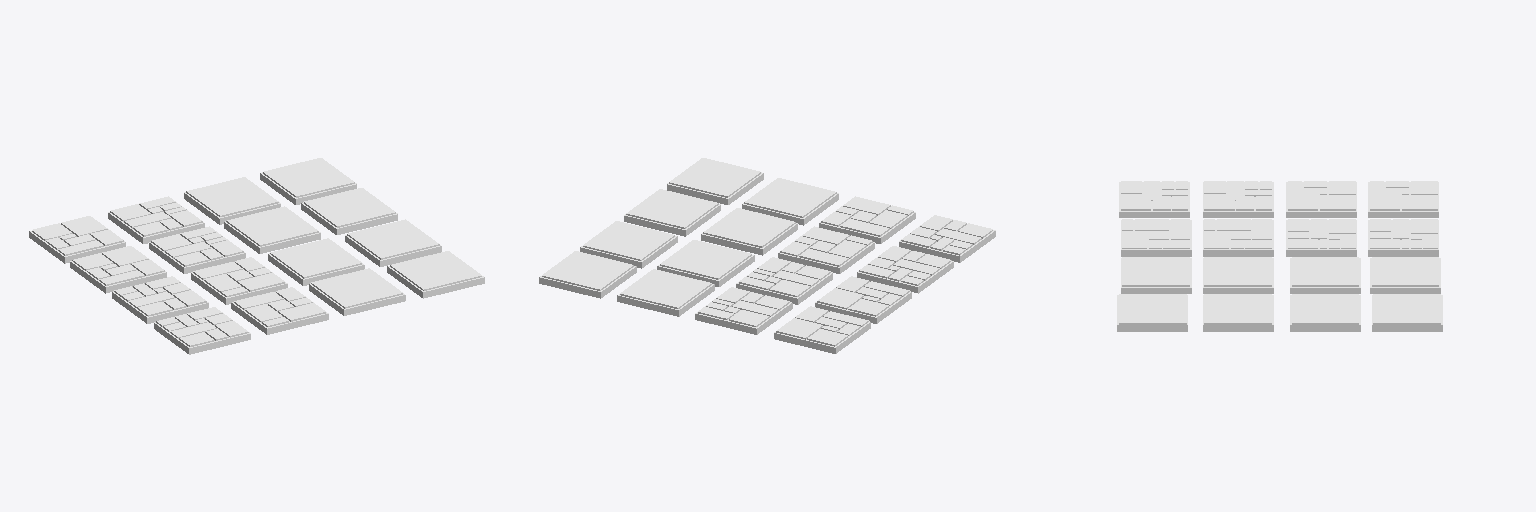
The model's file is Tiles.obj.
3 views of the same model, side by side, from view 1: azimuth 30°, elevation 25°; view 2: azimuth 150°, elevation 25°; view 3: azimuth 270°, elevation 25° (orthographic).
Visible parts, largest first — view 1: Tiles; view 2: Tiles; view 3: Tiles.
Part boxes in pixels (x1,y1,x2,y2): Tiles: (29,158,484,354); Tiles: (539,158,995,353); Tiles: (1117,181,1442,331).
Size of the model in its own units: 19.1 by 0.5 by 18.3.